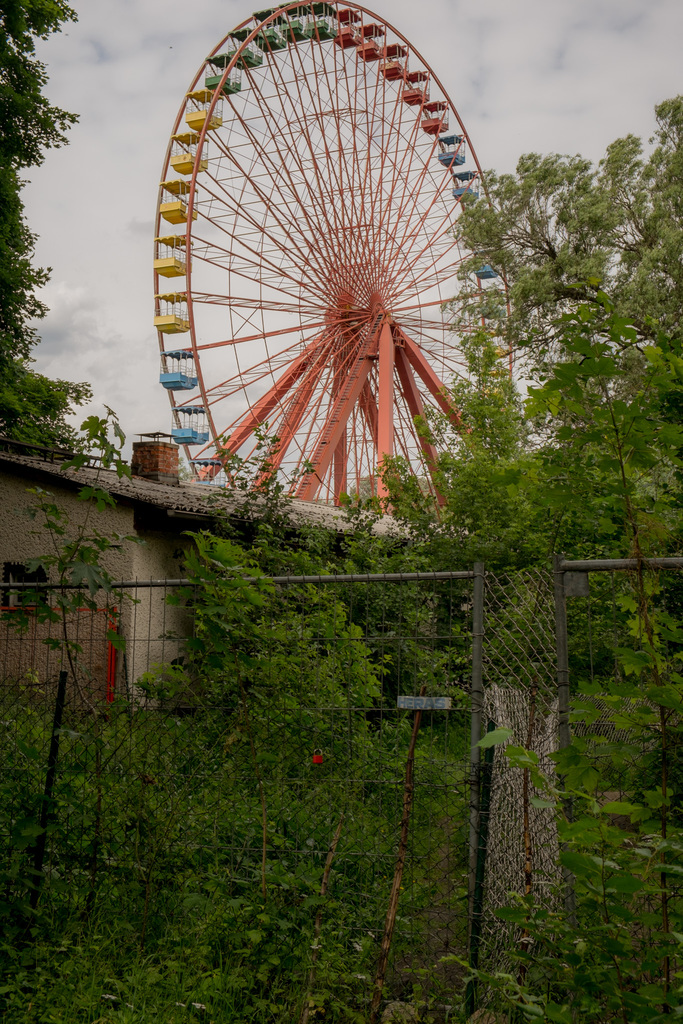Tree: (137, 96, 682, 1023), (0, 0, 100, 455)
